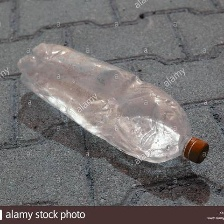bottle: (15, 39, 211, 170)
